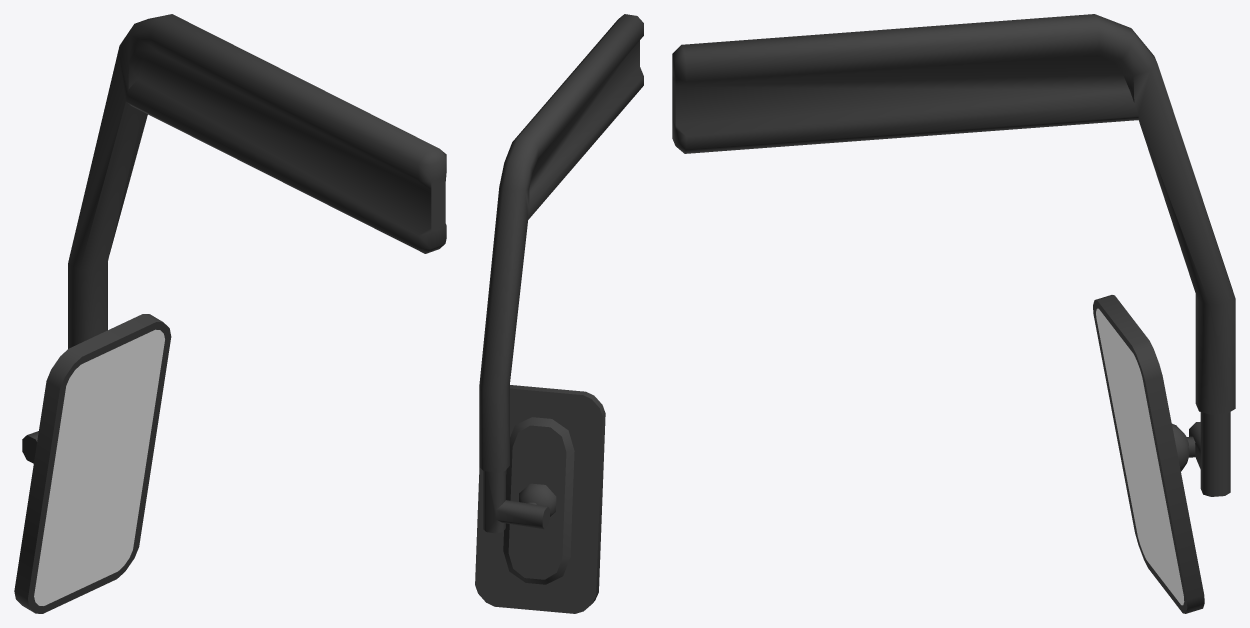
File: SideMirrorL.glb
The picture shows the model from 3 angles, left to right: view 1: azimuth 30°, elevation 25°; view 2: azimuth 150°, elevation 25°; view 3: azimuth 270°, elevation 25°; orthographic projection. The views are drawn at different scales.
Parts seen in each view (by area): view 1: サイドミラーL-柱, サイドミラーL-本体; view 2: サイドミラーL-柱, サイドミラーL-本体; view 3: サイドミラーL-柱, サイドミラーL-本体.
Boxes of the visible parts, box(x1,y1,x2,y2) form: サイドミラーL-柱: box(22, 14, 446, 463); サイドミラーL-本体: box(14, 314, 171, 613); サイドミラーL-柱: box(479, 14, 643, 533); サイドミラーL-本体: box(475, 385, 605, 613); サイドミラーL-柱: box(672, 14, 1235, 496); サイドミラーL-本体: box(1093, 295, 1204, 613).
Bounding box in the file's own units: 0.2516 × 0.7077 × 0.6042.
2 materials, 1 textured.
